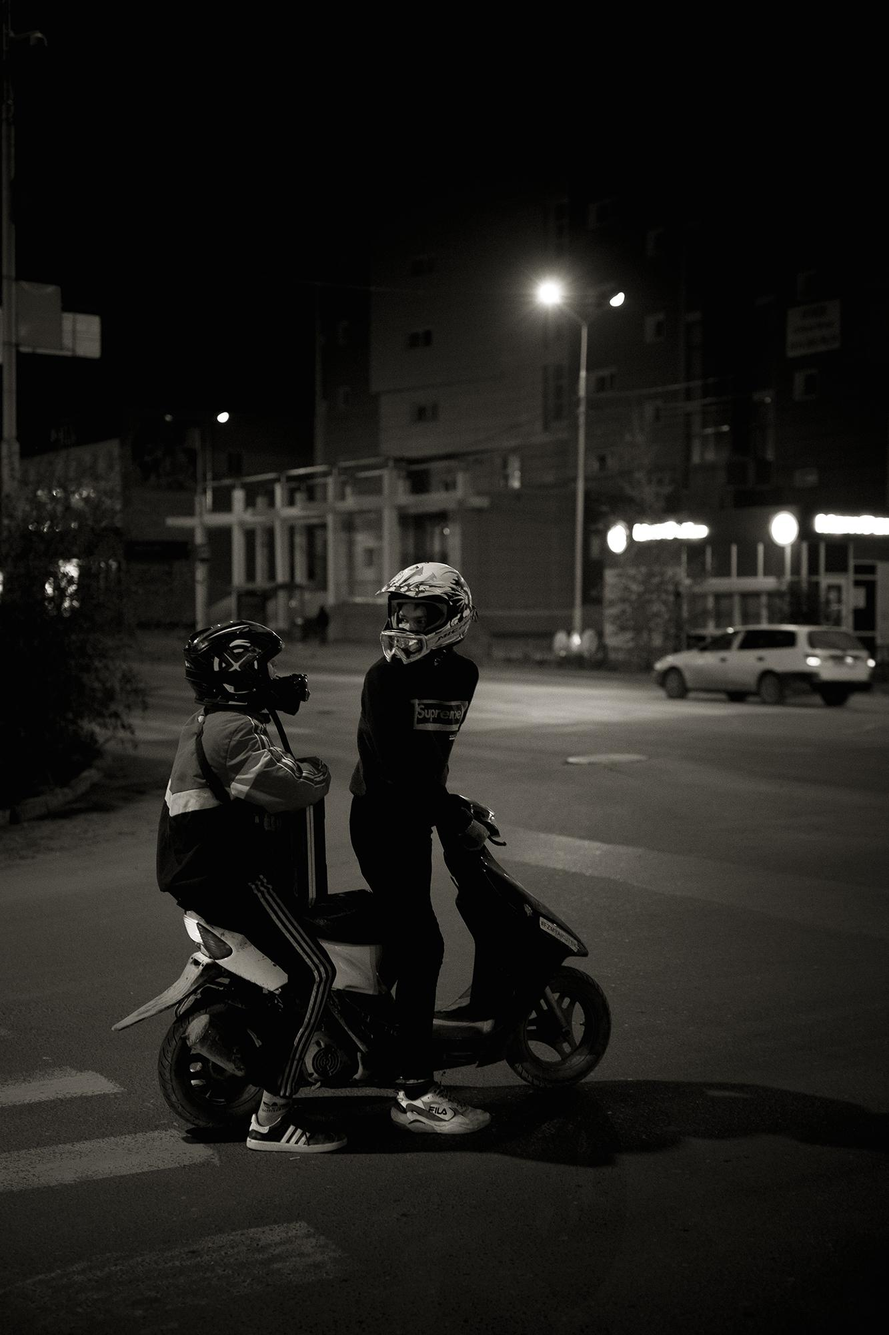helmet: (182, 618, 312, 717), (374, 561, 479, 666)
